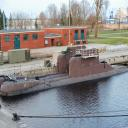submarine: (1, 57, 128, 98), (1, 43, 96, 88)
